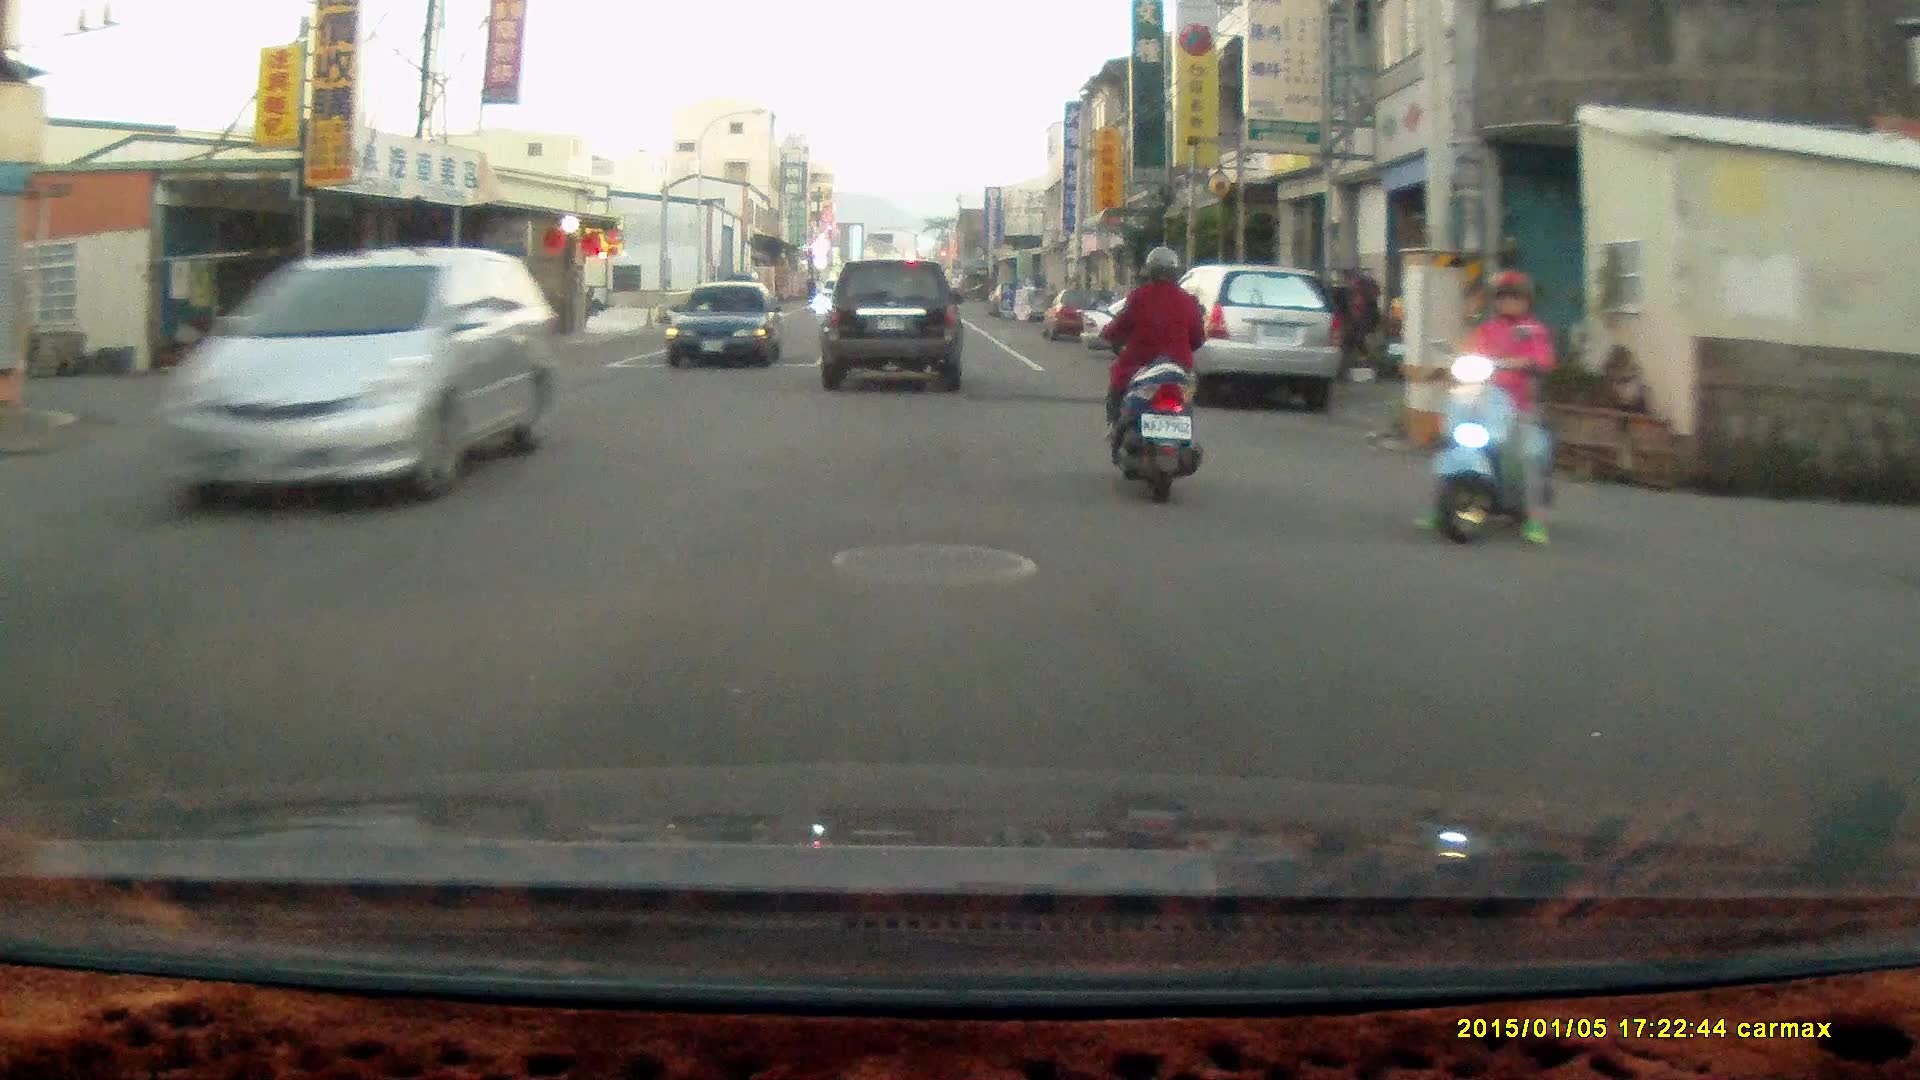rider: (1408, 268, 1556, 546), (1102, 241, 1204, 505)
vehicle: (157, 241, 563, 513), (1143, 262, 1341, 408), (820, 257, 965, 396), (1083, 283, 1265, 359), (671, 280, 786, 370)
